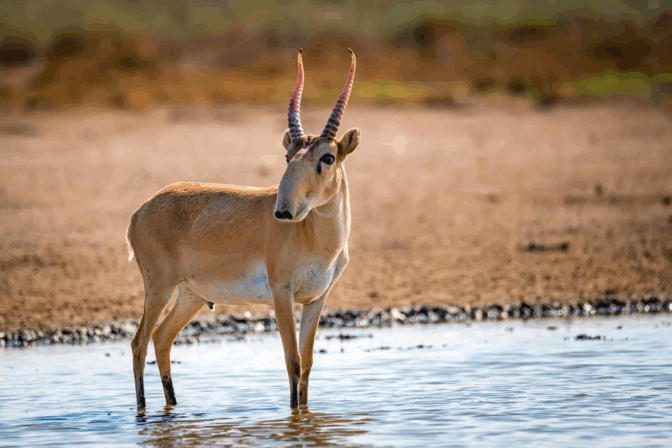saiga: (125, 47, 369, 448)
